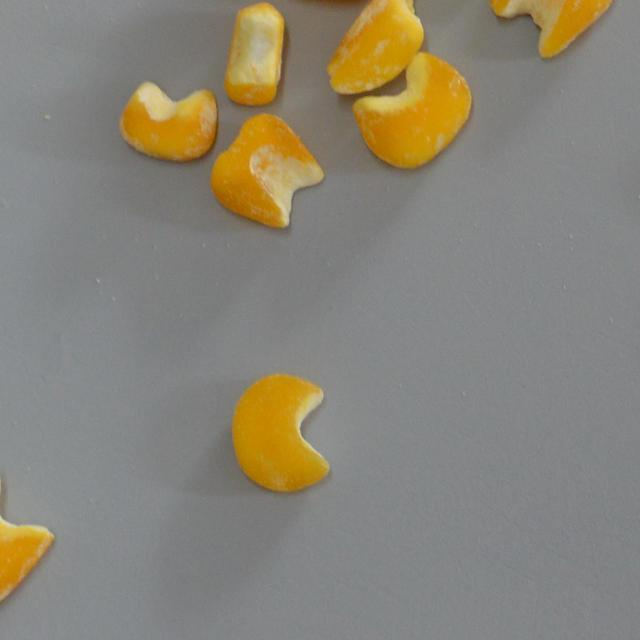no_canjicado: (230, 372, 330, 493), (222, 2, 286, 105)
pelicula: (350, 52, 472, 168), (210, 112, 323, 229), (326, 0, 424, 94), (118, 80, 216, 162), (0, 469, 54, 614), (488, 0, 616, 58)
